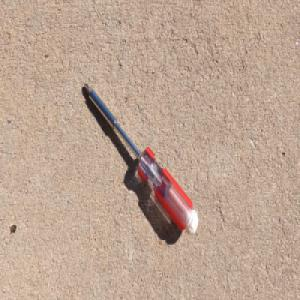Screwdriver: (82, 80, 199, 237)
